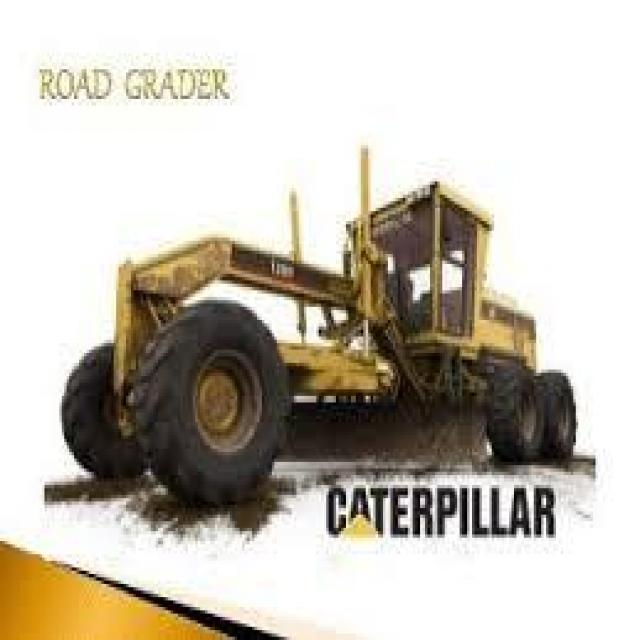Grader: (62, 162, 583, 504)
